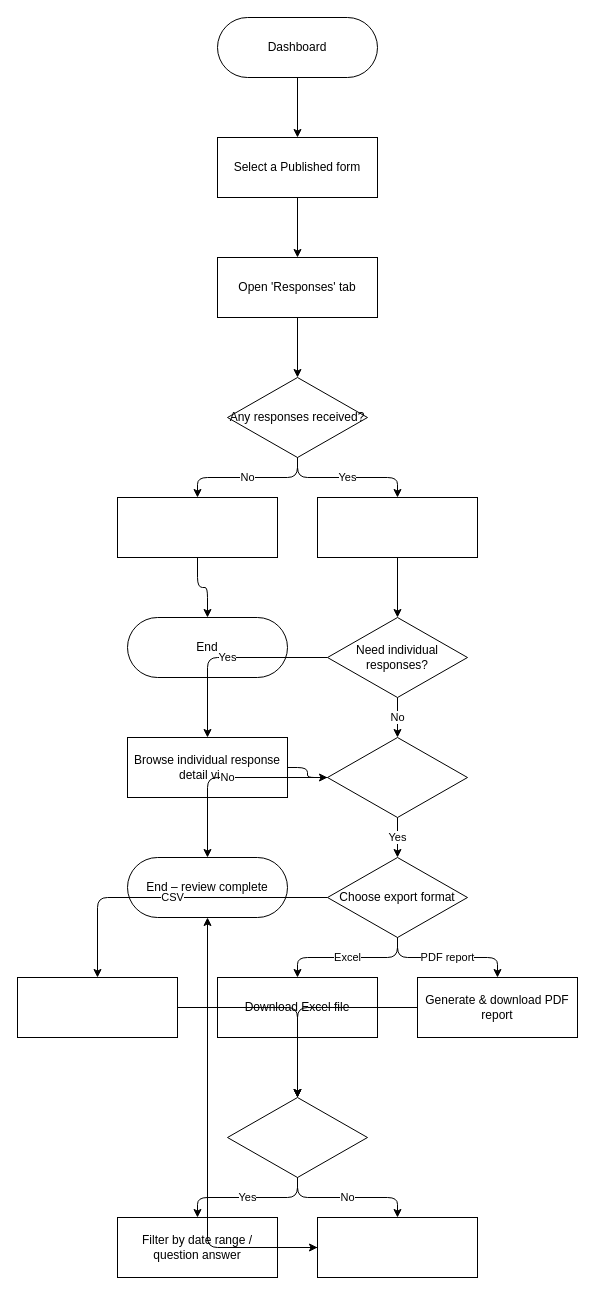
This 595x1295 diagram has some shape labels left out. Each missing label, with the centre of its shape:
Apply filters before export?: [297,1137]
Download CSV file: [97,1007]
Download filtered export: [397,1247]
Export data?: [397,777]
Show 'No responses yet' message: [197,527]
View response summary & charts: [397,527]
